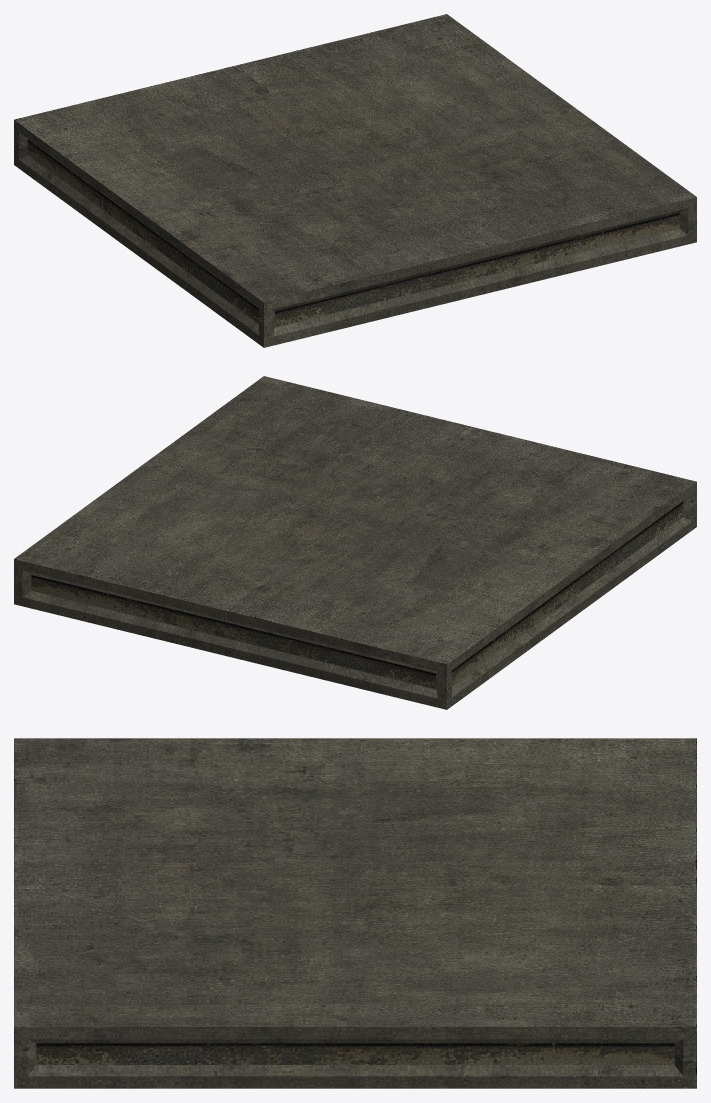
Rendered from floor_ceiling_hr_3.glb.
3 renders of one model, top to bottom at view 1: azimuth 30°, elevation 25°; view 2: azimuth 150°, elevation 25°; view 3: azimuth 270°, elevation 25°, orthographic. The views are drawn at different scales.
Parts seen in each view (by area): view 1: floor_ceiling_hr_3; view 2: floor_ceiling_hr_3; view 3: floor_ceiling_hr_3.
Part boxes in pixels (<box>): floor_ceiling_hr_3: <box>14,14,696,347</box>; floor_ceiling_hr_3: <box>14,376,696,709</box>; floor_ceiling_hr_3: <box>14,738,696,1088</box>.
Size of the model in its own units: 4 by 0.4 by 4.
2 materials, 2 textured.
